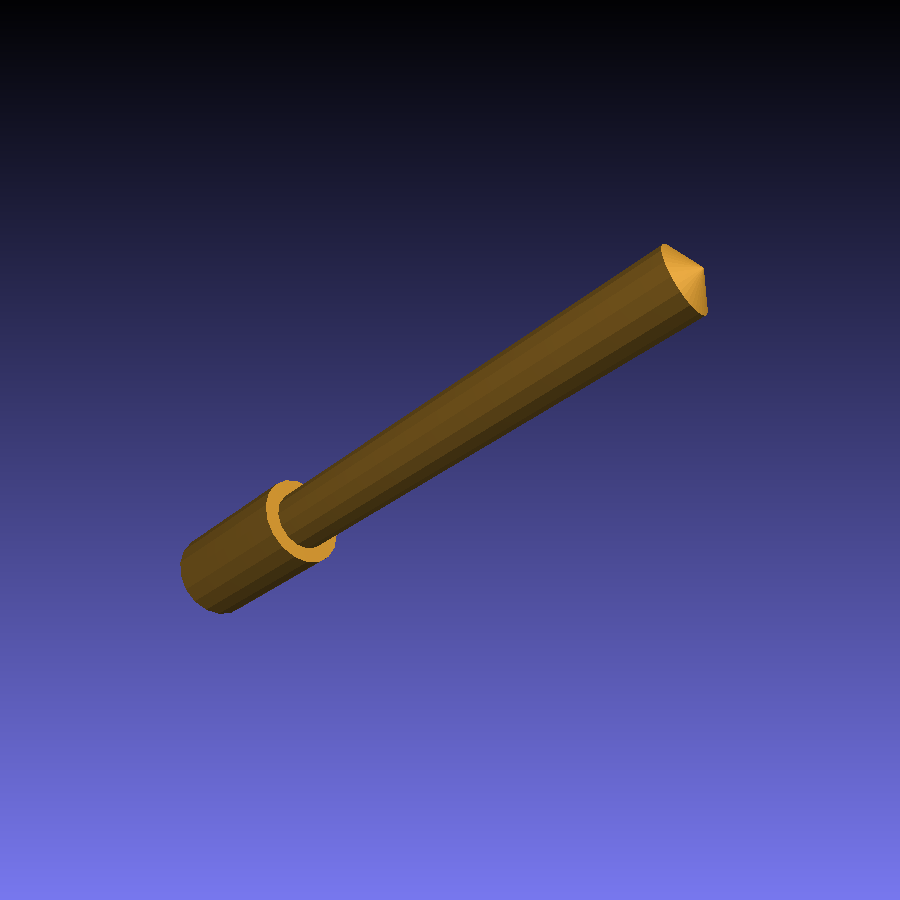cargo_g: (178, 243, 709, 615)
